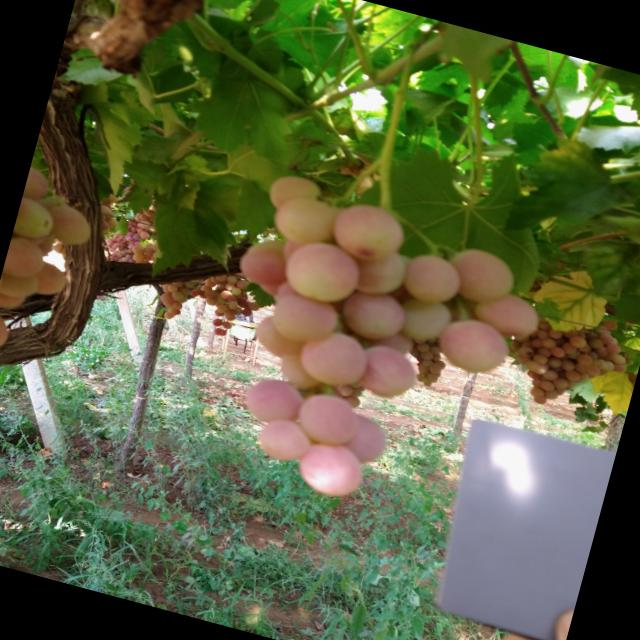grapes: (279, 233, 364, 308), (327, 198, 407, 268), (293, 323, 373, 392), (435, 312, 513, 380), (293, 435, 368, 502), (442, 244, 520, 308), (267, 288, 343, 350), (292, 388, 362, 450), (338, 284, 408, 346), (270, 192, 340, 252), (354, 342, 421, 404), (471, 286, 543, 342), (242, 373, 308, 430), (351, 242, 411, 302), (401, 250, 463, 308), (254, 413, 318, 467), (394, 293, 454, 346), (250, 312, 310, 361), (338, 412, 390, 468), (237, 242, 294, 291), (267, 172, 327, 218), (44, 202, 95, 249), (1, 235, 47, 282), (12, 198, 58, 242), (276, 352, 326, 392), (30, 259, 69, 299), (0, 266, 39, 301), (246, 232, 288, 264), (376, 327, 414, 357), (22, 167, 51, 203), (272, 278, 302, 307), (279, 238, 304, 266), (0, 288, 24, 312), (0, 311, 12, 355), (257, 278, 283, 296), (341, 394, 361, 410), (575, 352, 593, 368), (560, 340, 578, 356), (568, 334, 587, 349), (539, 336, 557, 351), (335, 383, 353, 398), (564, 368, 582, 382), (588, 336, 604, 351), (549, 344, 566, 358), (560, 358, 576, 372), (532, 362, 548, 376), (532, 352, 548, 366), (542, 368, 558, 382), (552, 376, 568, 390), (542, 388, 558, 402), (517, 346, 534, 359), (547, 327, 563, 340), (539, 379, 555, 392), (520, 338, 536, 351), (130, 243, 146, 256), (414, 341, 430, 354), (545, 356, 562, 368), (159, 292, 176, 304), (428, 362, 442, 376), (602, 318, 617, 331), (586, 364, 601, 377), (563, 327, 578, 340), (419, 349, 434, 362), (532, 394, 548, 406), (528, 386, 544, 398), (576, 341, 592, 353), (51, 242, 67, 254), (524, 359, 538, 372), (536, 328, 550, 341), (606, 343, 621, 355), (611, 354, 626, 366), (592, 358, 607, 370), (566, 348, 581, 360), (170, 290, 185, 302), (596, 325, 612, 336), (536, 346, 552, 357), (514, 332, 530, 343), (598, 333, 612, 345), (601, 360, 615, 372), (596, 344, 610, 356), (104, 216, 118, 228), (612, 362, 626, 373), (586, 331, 600, 342), (538, 320, 552, 331), (432, 359, 446, 370), (209, 276, 224, 286), (204, 276, 216, 288), (166, 282, 178, 294), (104, 192, 116, 204), (426, 372, 438, 384), (215, 303, 228, 314), (247, 301, 260, 312), (235, 279, 248, 290), (219, 289, 232, 300), (574, 362, 588, 372), (528, 371, 542, 381), (529, 326, 540, 338), (240, 306, 252, 317), (132, 252, 144, 263), (518, 356, 531, 366), (222, 308, 235, 318), (225, 274, 238, 284), (214, 272, 227, 282), (203, 288, 216, 298), (548, 364, 562, 373), (578, 372, 590, 382), (565, 378, 577, 388), (553, 386, 565, 396), (530, 378, 542, 388), (530, 338, 542, 348), (230, 286, 242, 296), (224, 282, 236, 292), (204, 296, 216, 306), (162, 310, 174, 320), (178, 286, 190, 296), (138, 230, 150, 240), (139, 219, 151, 229), (98, 205, 110, 215), (350, 380, 362, 390), (350, 388, 362, 398), (428, 345, 440, 355), (414, 372, 426, 382), (223, 313, 236, 322), (587, 350, 598, 360), (144, 208, 155, 218), (172, 279, 184, 288), (421, 358, 433, 367), (413, 336, 426, 344), (598, 368, 608, 378), (212, 317, 222, 327), (228, 300, 238, 310), (190, 288, 200, 298), (172, 300, 182, 310), (162, 284, 172, 294), (432, 352, 442, 362), (221, 320, 232, 329), (200, 284, 212, 292), (212, 327, 222, 336), (112, 195, 121, 205), (104, 209, 113, 219), (422, 378, 432, 387), (213, 309, 224, 317), (216, 296, 227, 304), (234, 306, 242, 316), (167, 307, 177, 315), (150, 242, 158, 252), (138, 212, 148, 220), (162, 301, 173, 308), (609, 337, 618, 345), (526, 370, 535, 378), (226, 294, 235, 302), (136, 222, 145, 230), (101, 221, 109, 230), (564, 384, 572, 392), (197, 288, 205, 296), (144, 242, 152, 250), (125, 230, 134, 237), (358, 386, 368, 392), (220, 329, 227, 337), (120, 256, 128, 263), (124, 185, 131, 193), (102, 226, 109, 234), (588, 374, 596, 380), (125, 253, 132, 259), (119, 250, 126, 256), (99, 296, 105, 302), (126, 236, 132, 242), (118, 234, 124, 240), (114, 242, 120, 248), (107, 238, 113, 244), (132, 235, 138, 241), (128, 242, 134, 248), (132, 222, 138, 228), (130, 226, 137, 231), (198, 294, 206, 298), (115, 238, 122, 242), (176, 309, 180, 315), (96, 294, 100, 300), (110, 254, 116, 258), (111, 248, 116, 252)
